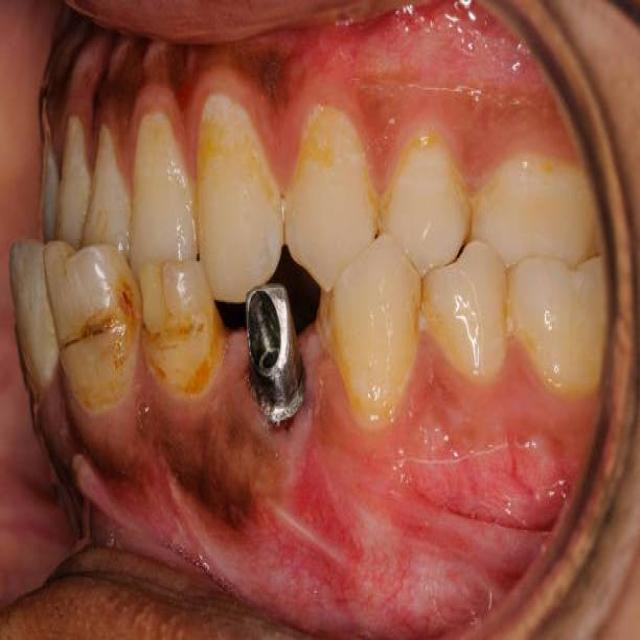caries: (140, 255, 226, 397), (46, 241, 132, 380)
